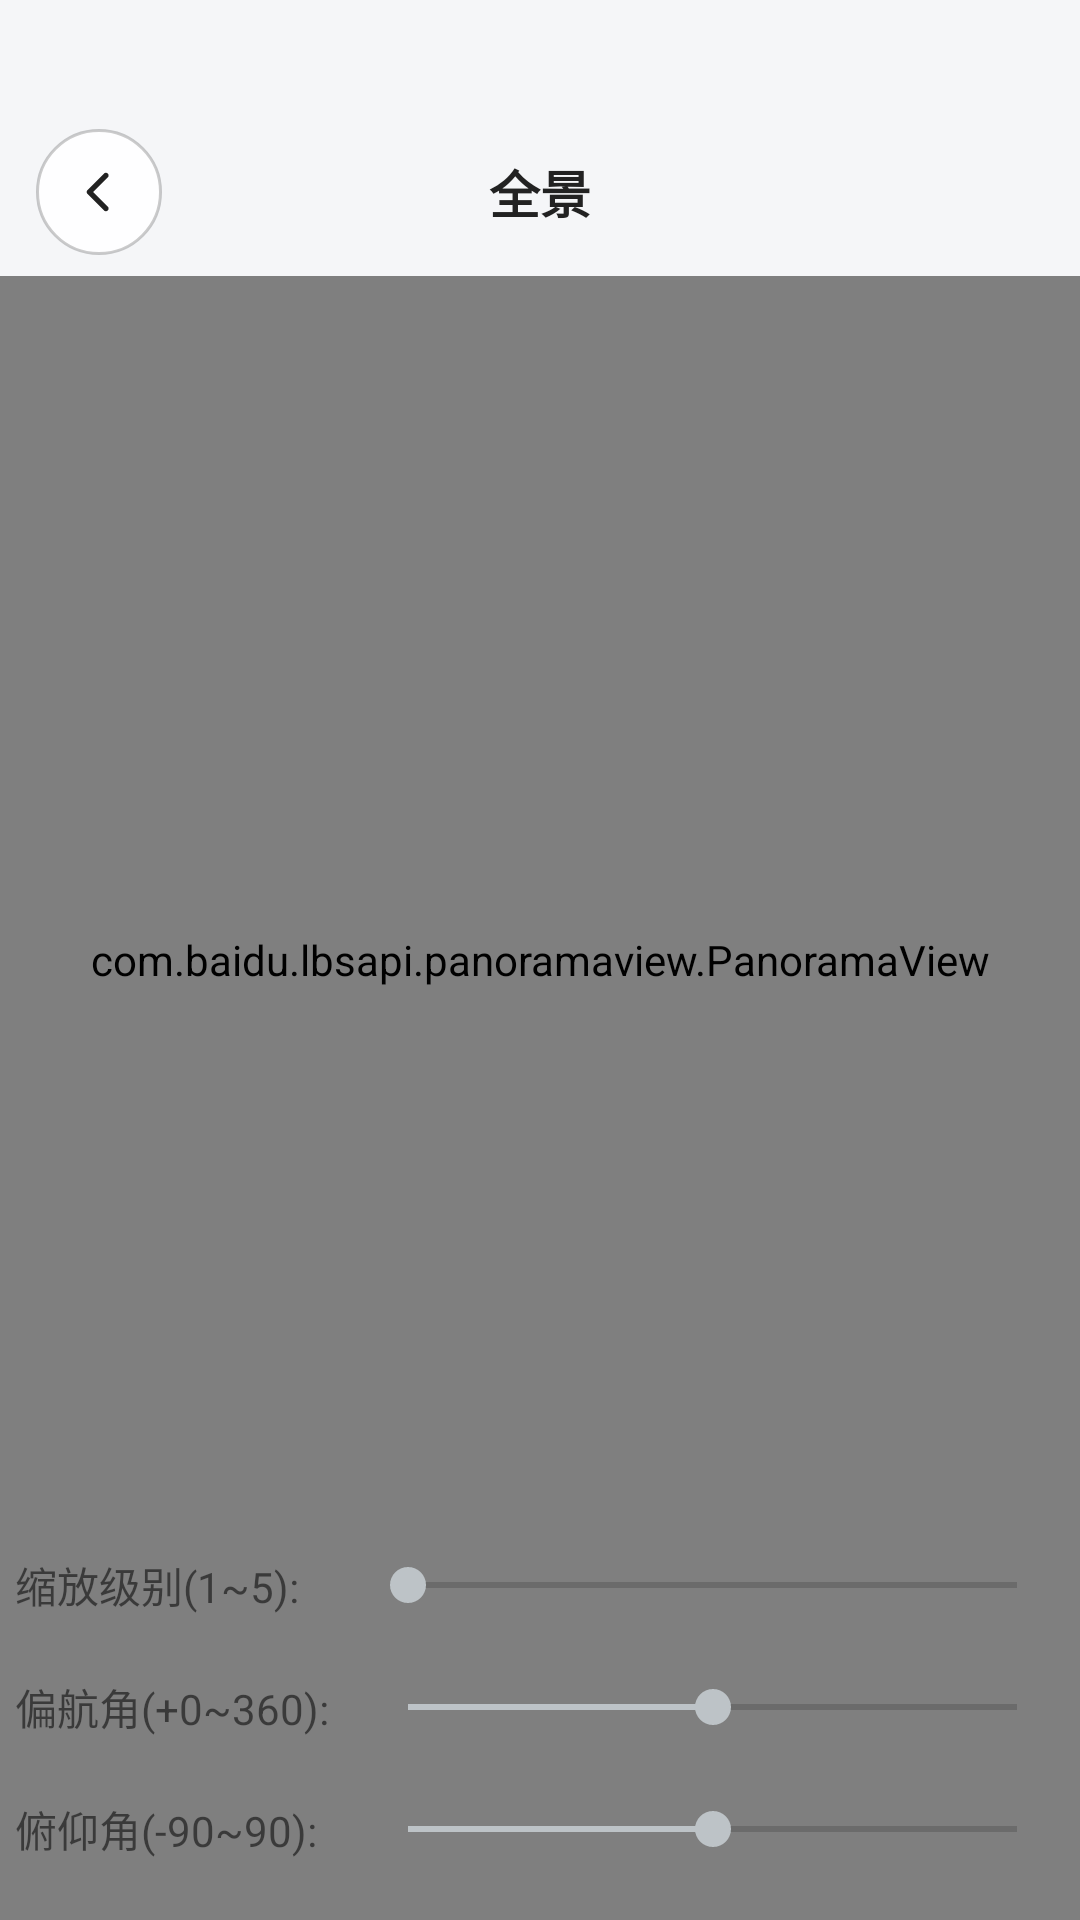

Icons on this 1080 × 1920 Android screen, each with its box as (x1, y1, x2, y2):
back chevron: (36, 129, 162, 255)
